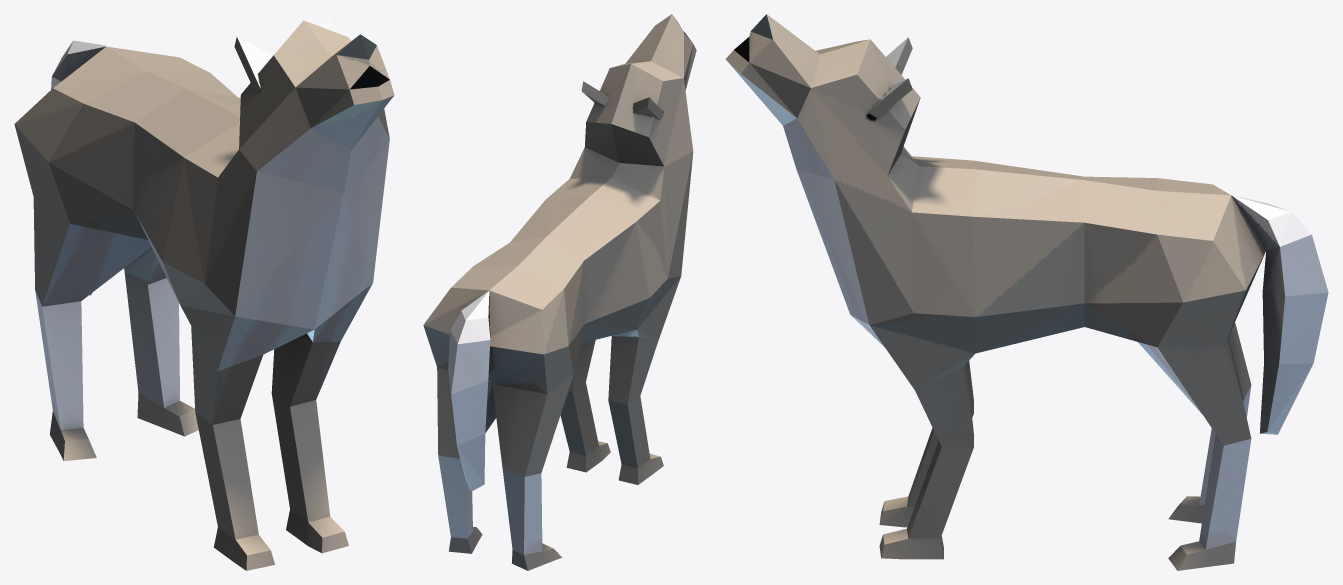
File: PUSHILIN_wolf.obj
3 views of the same model, side by side, from view 1: azimuth 30°, elevation 25°; view 2: azimuth 150°, elevation 25°; view 3: azimuth 270°, elevation 25° (orthographic). The views are drawn at different scales.
Parts seen in each view (by area): view 1: wolf; view 2: wolf; view 3: wolf.
Boxes of the visible parts, <box> form: wolf: <box>14,14,394,570</box>; wolf: <box>423,14,696,570</box>; wolf: <box>725,14,1328,570</box>.
Size of the model in its own units: 0.5176 by 1.69 by 1.76.
Materials: 1 (1 with a texture image).
